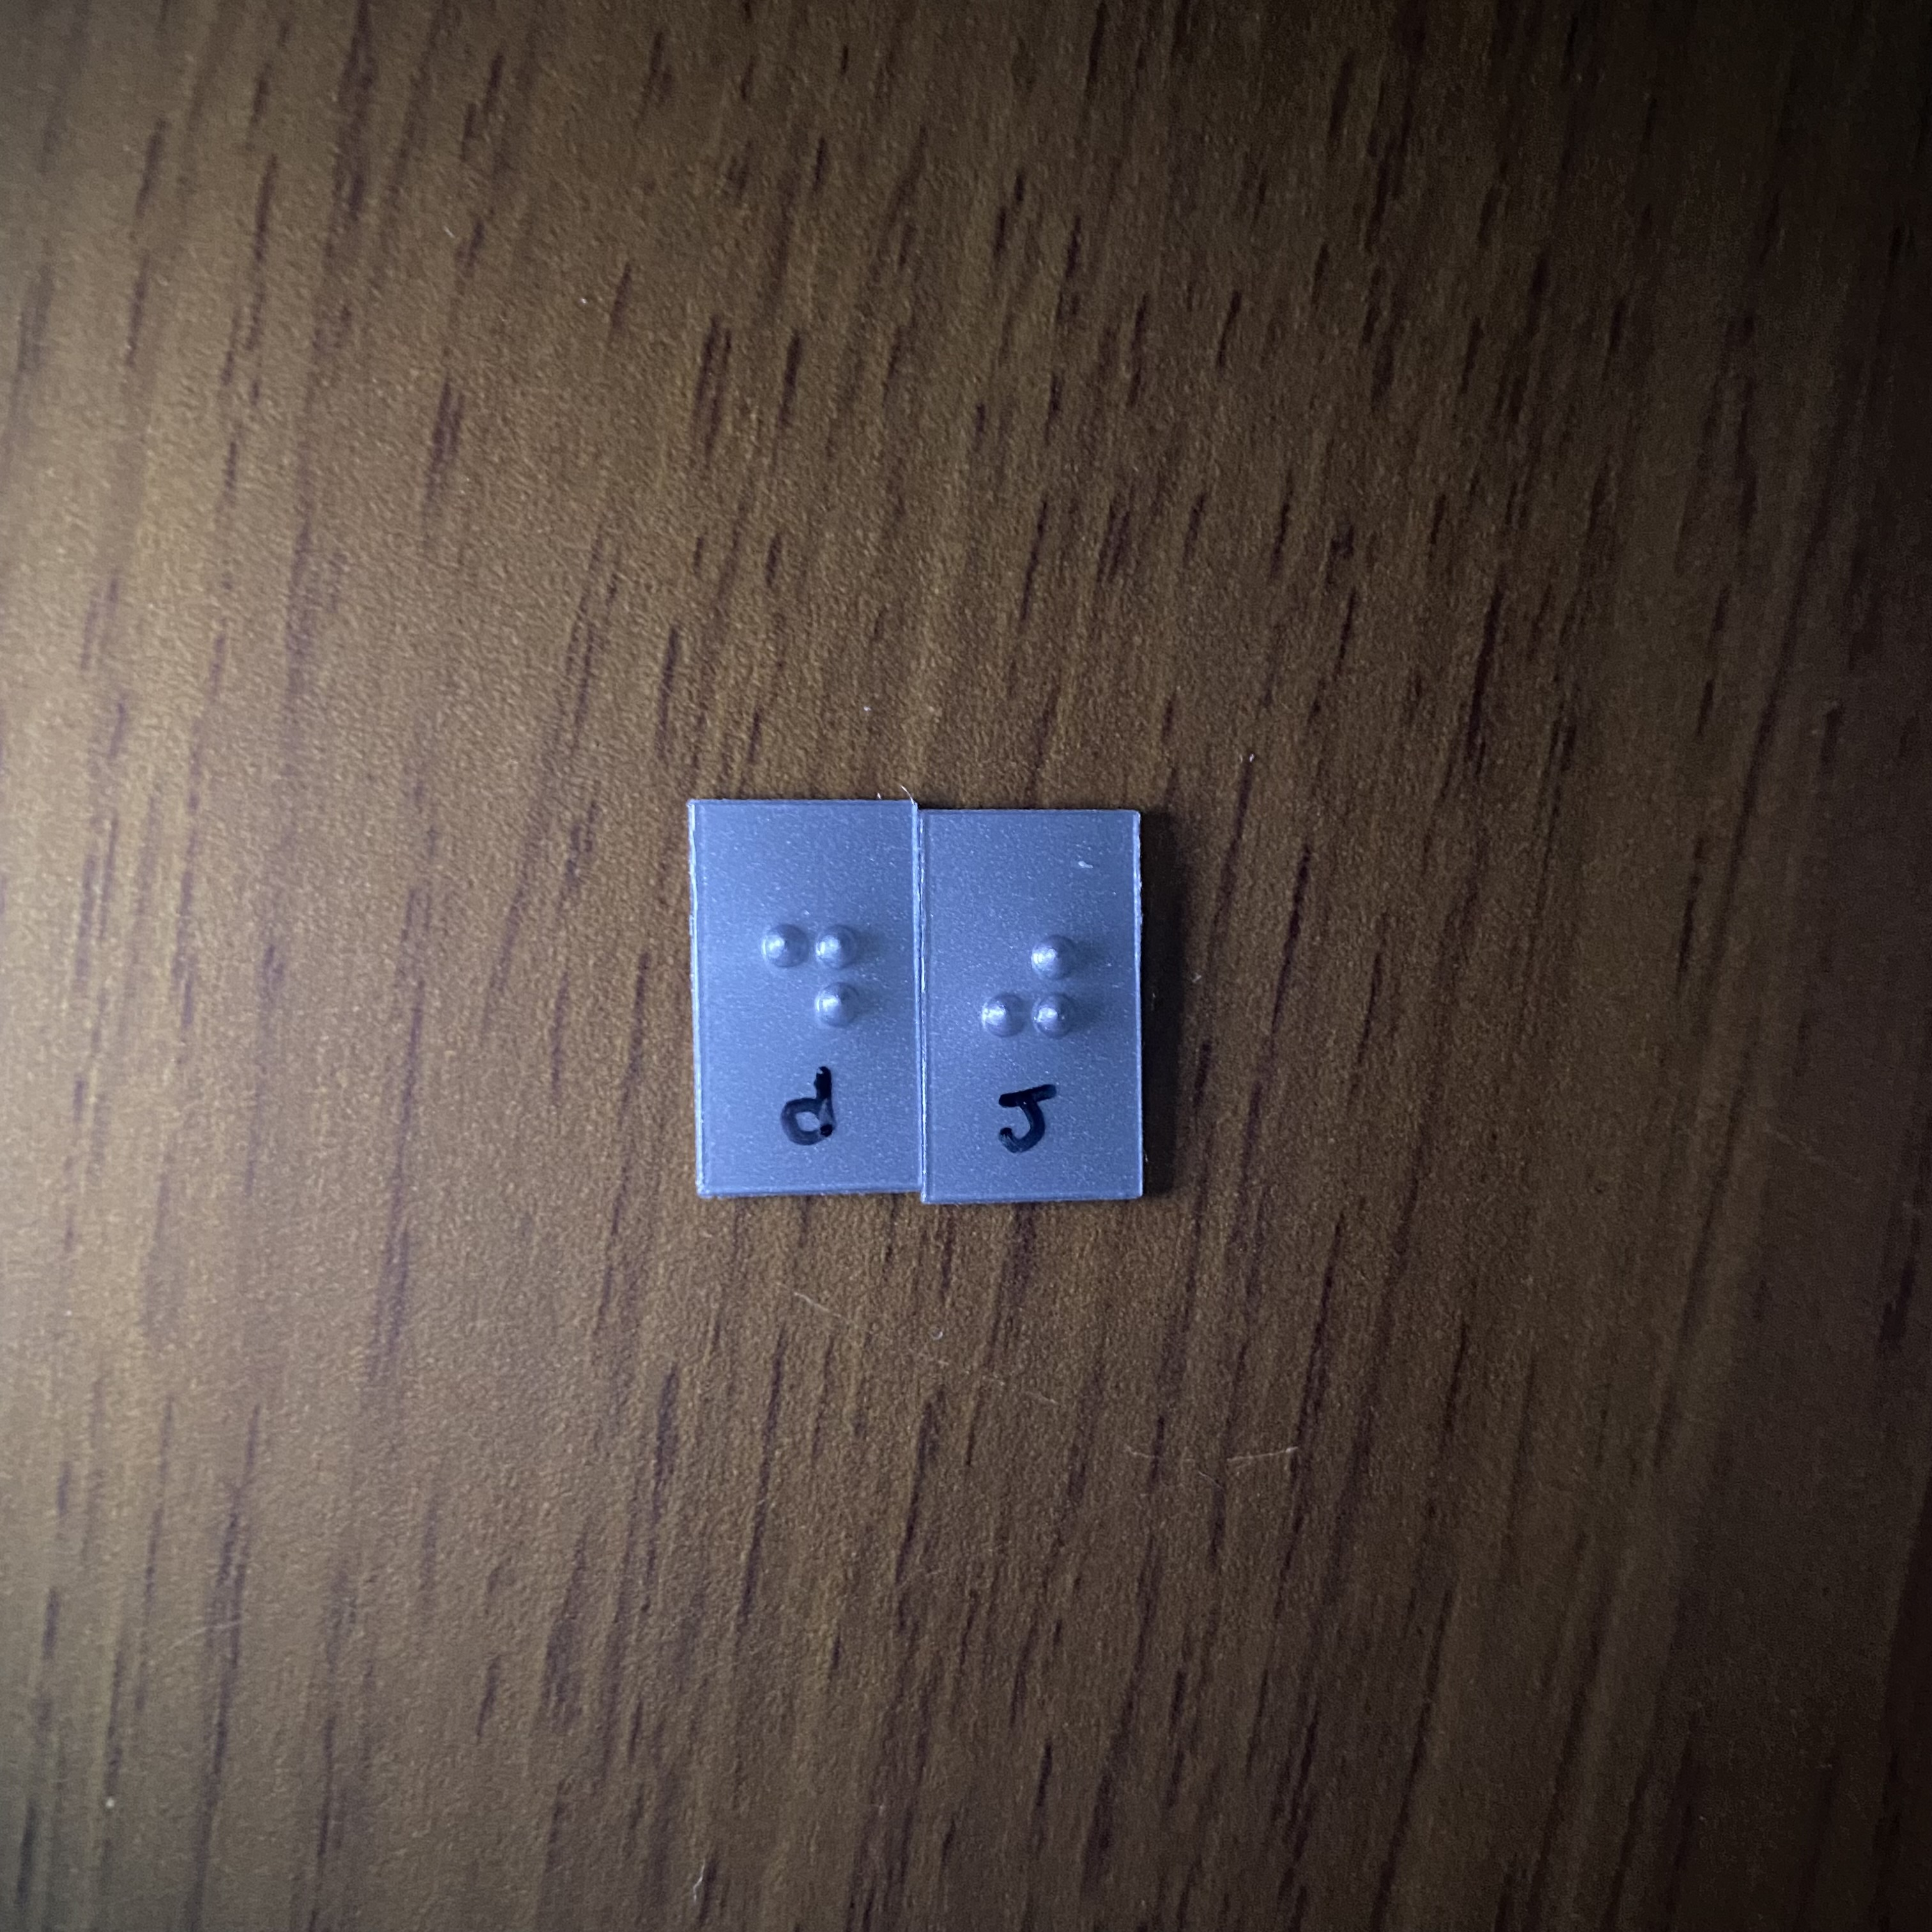d: (749, 905, 875, 1079)
j: (965, 912, 1115, 1091)
